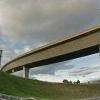Bridge: (4, 29, 96, 74)
